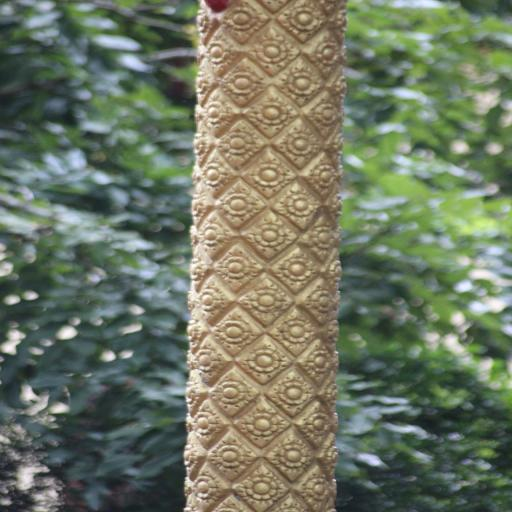hoa: (233, 464, 286, 506), (207, 313, 262, 352), (244, 32, 300, 69), (236, 404, 287, 442), (268, 370, 316, 410), (272, 248, 318, 288), (282, 62, 326, 102), (280, 123, 322, 163), (243, 343, 290, 378), (219, 186, 265, 221), (296, 467, 336, 507), (250, 156, 292, 194), (244, 282, 290, 316), (224, 67, 276, 97), (280, 2, 324, 37), (276, 434, 314, 474), (214, 252, 258, 286), (213, 373, 257, 407), (200, 36, 242, 71), (280, 185, 320, 221), (222, 5, 264, 39), (250, 97, 296, 128), (220, 128, 264, 160), (300, 401, 335, 440), (308, 31, 342, 70), (307, 96, 347, 129), (276, 315, 316, 348), (198, 152, 231, 191), (310, 153, 340, 195), (252, 216, 287, 252), (189, 473, 224, 507), (302, 284, 339, 316), (189, 409, 229, 438), (210, 442, 250, 471), (194, 2, 224, 40), (309, 216, 337, 254), (199, 99, 234, 129), (187, 345, 222, 375), (320, 250, 348, 287), (325, 63, 350, 102), (196, 223, 226, 255), (196, 286, 228, 316), (315, 376, 345, 408), (302, 344, 330, 378), (318, 311, 342, 350), (189, 182, 212, 222), (188, 251, 214, 286), (193, 127, 217, 163), (324, 119, 346, 158), (321, 186, 344, 222), (183, 312, 208, 345), (184, 373, 209, 405), (181, 438, 203, 474), (320, 437, 344, 470), (329, 0, 351, 32), (193, 68, 214, 96)
